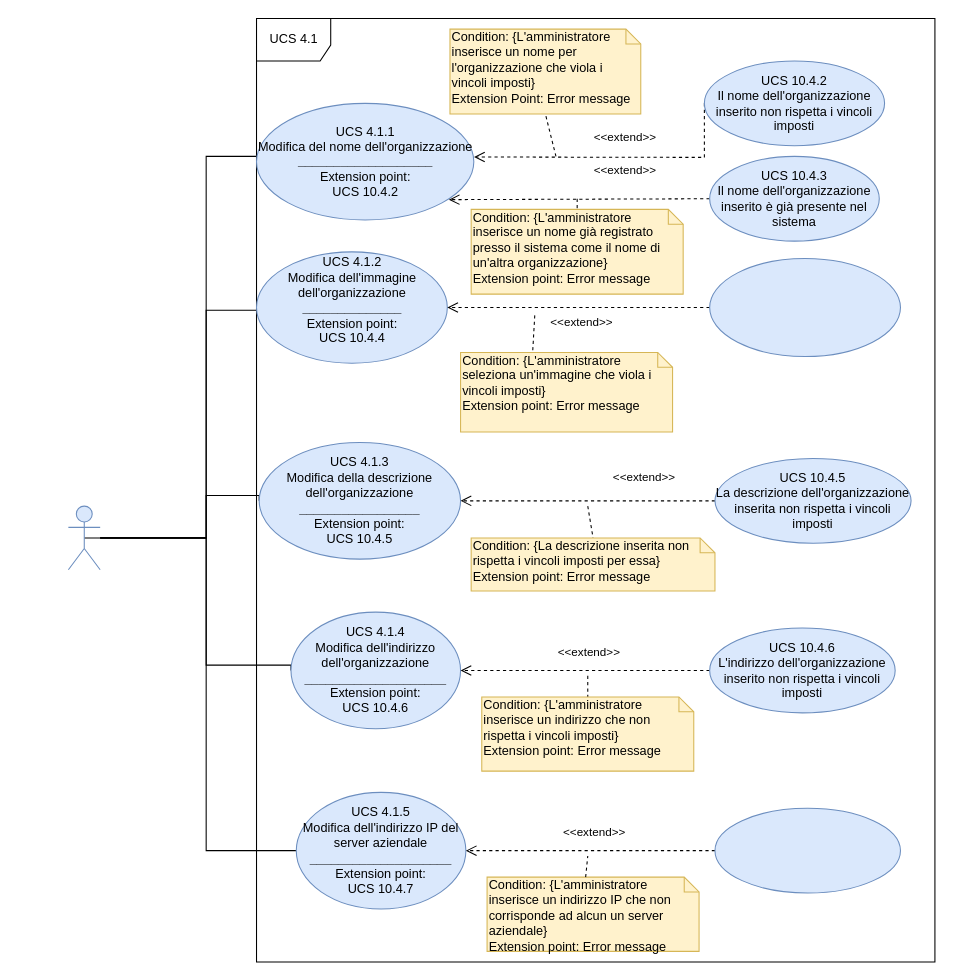
The diagram is 954 pixels wide and 980 high, and some of its shapes have lost their labels. Here are the shapes that lost their labels. From the top down, the centre of each, then its label:
the point at 804,307: UCS 10.4.4 L'immagine dell'organizzazione scelta non rispetta i vincoli imposti
the point at 83,537: Amministratore gestore
the point at 807,850: UCS 10.4.7 L'indirizzo IP inserito non rappresenta un server LDAP
